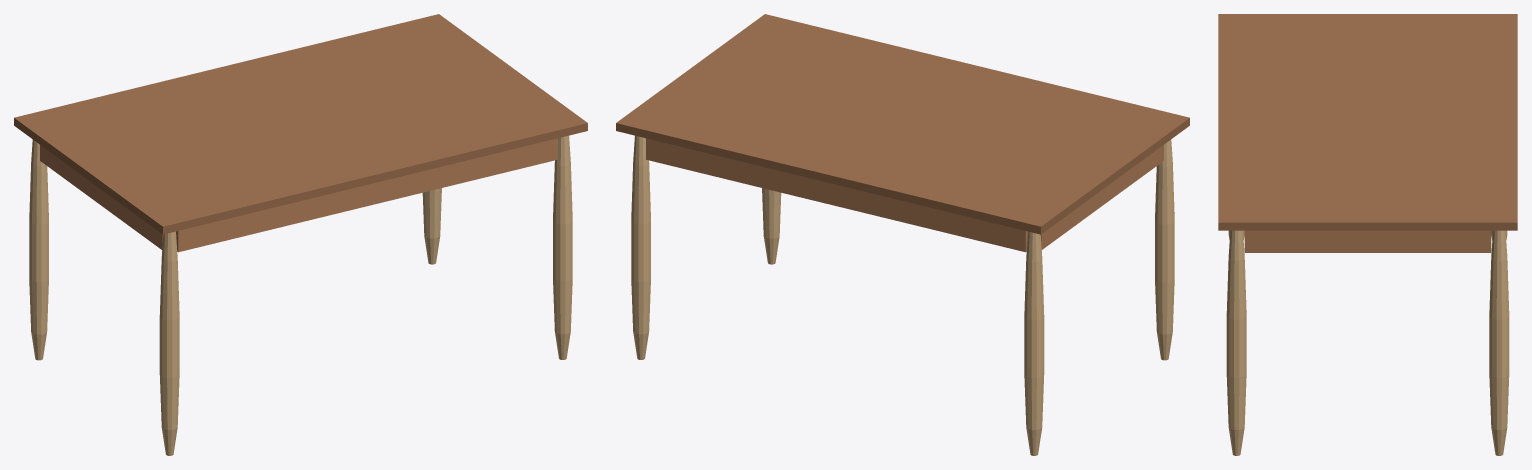
File: CAL-DTB-4-seat.glb
3 renders of one model, left to right at view 1: azimuth 30°, elevation 25°; view 2: azimuth 150°, elevation 25°; view 3: azimuth 270°, elevation 25°, orthographic.
Visible parts, largest first — view 1: top:pbr, apron-f:pbr, leg-fl:pbr, leg-fr:pbr, leg-bl:pbr, apron-l:pbr, leg-br:pbr; view 2: top:pbr, apron-b:pbr, leg-bl:pbr, leg-br:pbr, leg-fl:pbr, apron-l:pbr, leg-fr:pbr; view 3: top:pbr, apron-r:pbr, leg-fr:pbr, leg-br:pbr.
Part boxes in pixels (x1,y1,x2,y2): top:pbr: (14, 14, 587, 234); apron-f:pbr: (176, 138, 557, 252); leg-fl:pbr: (159, 231, 179, 455); leg-fr:pbr: (553, 135, 572, 359); leg-bl:pbr: (29, 139, 48, 360); apron-l:pbr: (40, 145, 163, 249); leg-br:pbr: (422, 188, 441, 264); top:pbr: (616, 14, 1189, 234); apron-b:pbr: (646, 138, 1027, 252); leg-bl:pbr: (1024, 231, 1044, 455); leg-br:pbr: (631, 135, 650, 359); leg-fl:pbr: (1155, 139, 1174, 360); apron-l:pbr: (1040, 145, 1163, 249); leg-fr:pbr: (762, 188, 781, 264); top:pbr: (1218, 14, 1517, 230); apron-r:pbr: (1244, 230, 1491, 252); leg-fr:pbr: (1226, 230, 1246, 455); leg-br:pbr: (1489, 230, 1509, 455).
Size of the model in its own units: 1.4 by 0.75 by 0.85.
